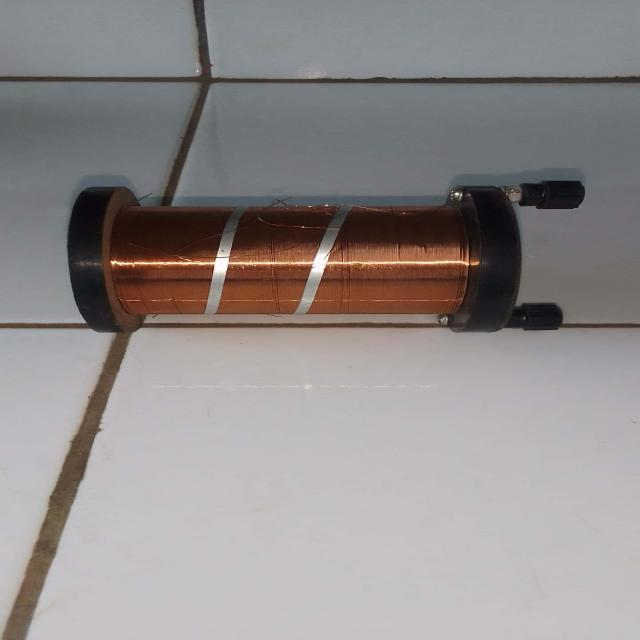Solenoid: (22, 168, 614, 348)
